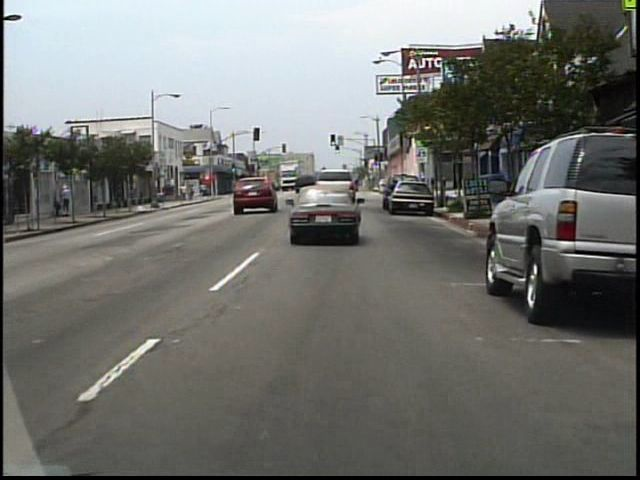person: (62, 183, 74, 217), (182, 184, 189, 202), (189, 183, 195, 201)
